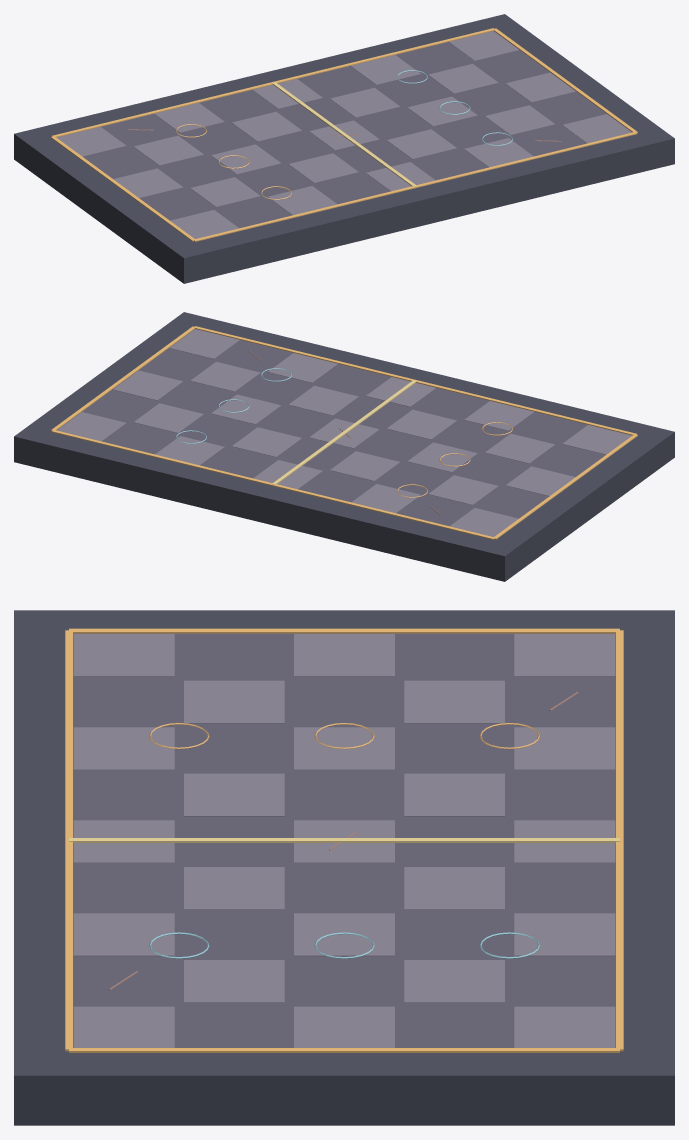
File: cancha_obsidiana.glb
3 renders of one model, top to bottom at view 1: azimuth 30°, elevation 25°; view 2: azimuth 150°, elevation 25°; view 3: azimuth 270°, elevation 25°, orthographic. The views are drawn at different scales.
Parts seen in each view (by area): view 1: cancha_obsidiana; view 2: cancha_obsidiana; view 3: cancha_obsidiana.
Part boxes in pixels (x1=…): cancha_obsidiana: x1=14, y1=14, x2=674, y2=283; cancha_obsidiana: x1=14, y1=312, x2=674, y2=581; cancha_obsidiana: x1=14, y1=610, x2=674, y2=1125.
Bounding box in the file's own units: 20 × 1.07 × 12.
